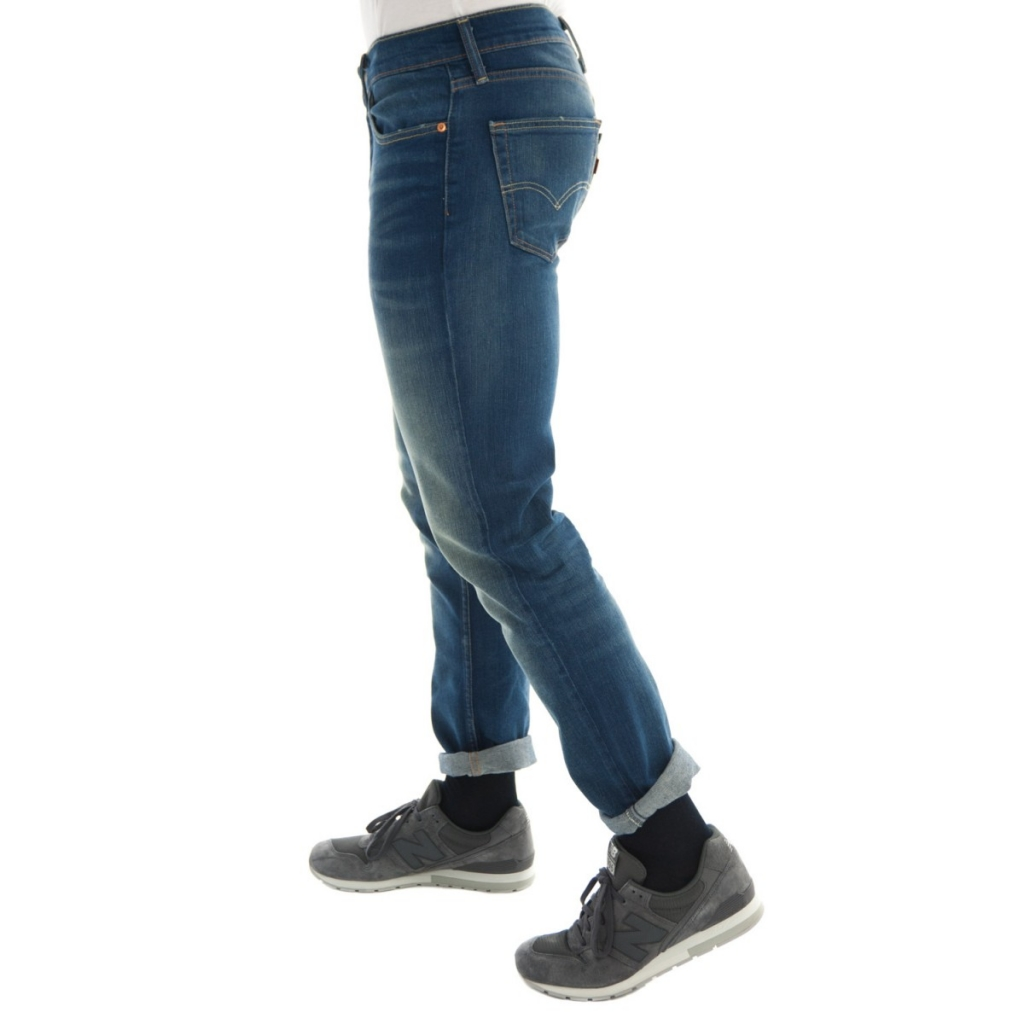jeans: (282, 1, 738, 831)
